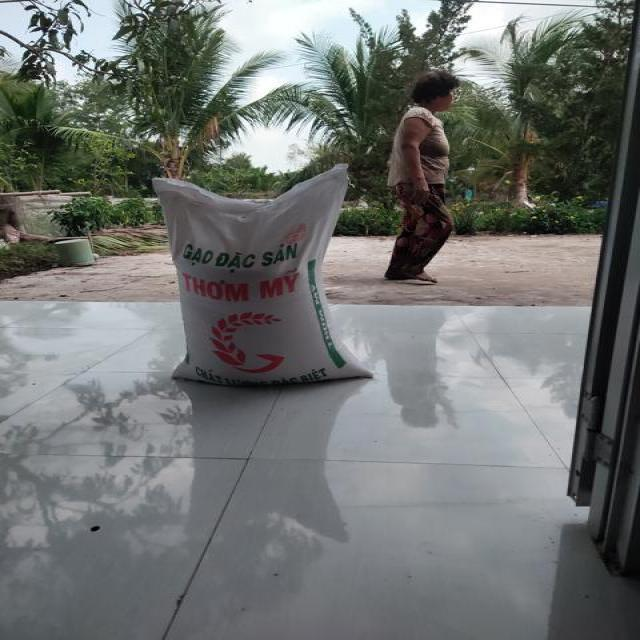gunny_bag: (153, 165, 372, 386)
